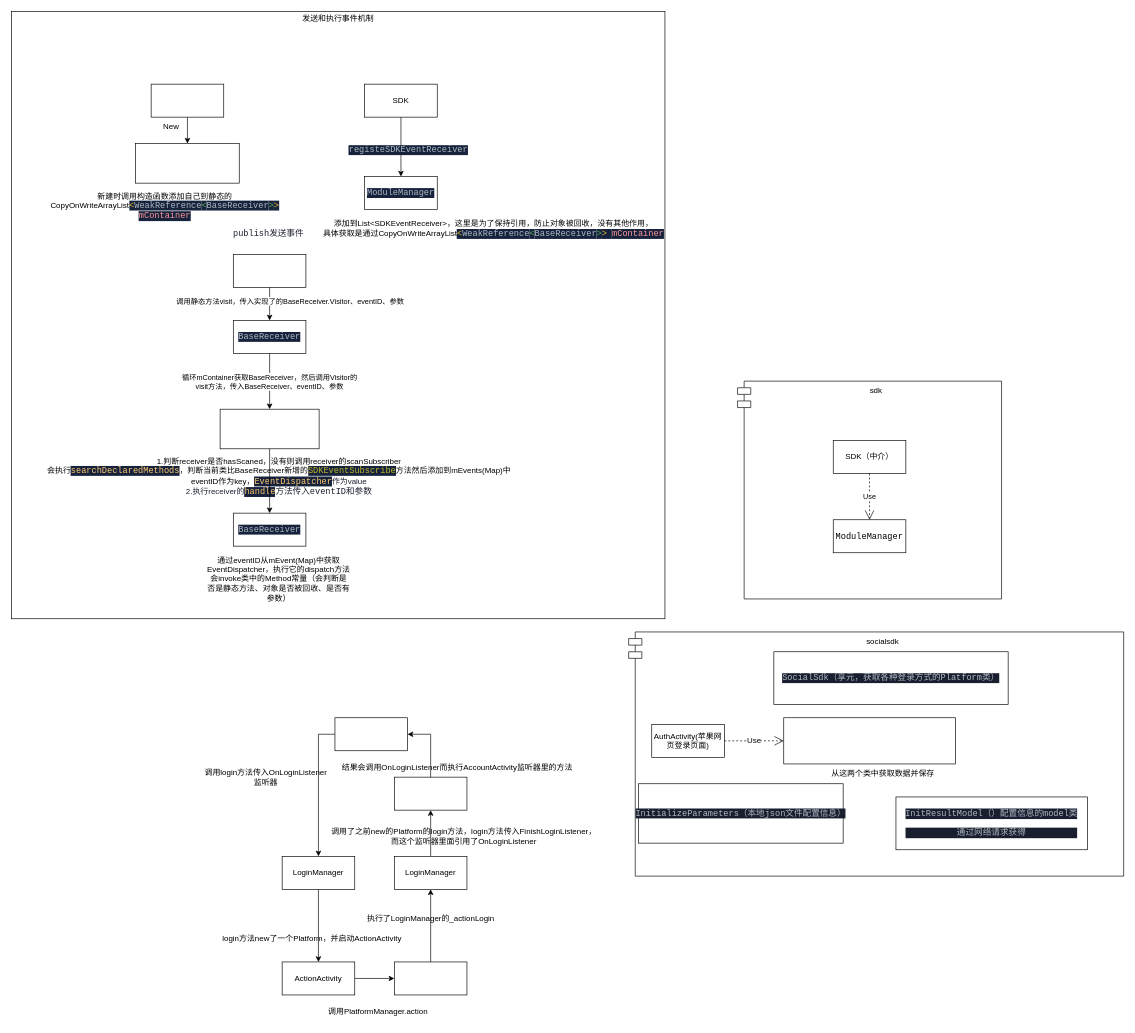
The diagram is 1135 pixels wide and 1033 high, and some of its shapes have lost their labels. Each missing label, with the centre of its shape:
"AccoutActivity" goes at point (371, 734).
"App" goes at point (187, 100).
"BaseReceiver.Visitor" goes at point (269, 429).
"ConfigWrapper（存储sdk配置信息）" goes at point (869, 740).
"EventPublisher" goes at point (269, 270).
"GameSDKEventReceiver" goes at point (187, 163).
"Platform" goes at point (430, 793).
"PlatformManager" goes at point (430, 978).
